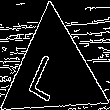L_NE: (31, 41, 76, 101)
